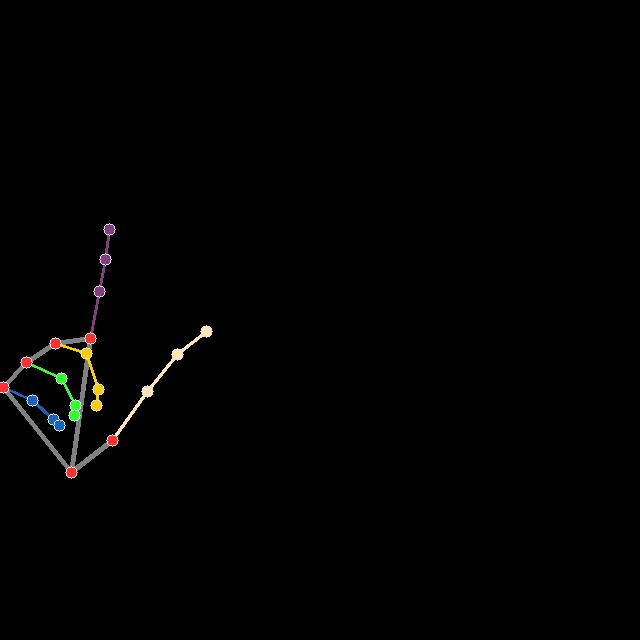gun: (0, 222, 216, 479)
